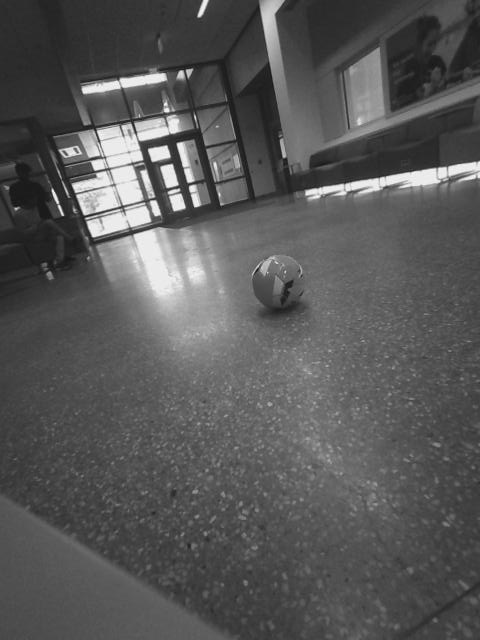ball: (245, 250, 313, 317)
